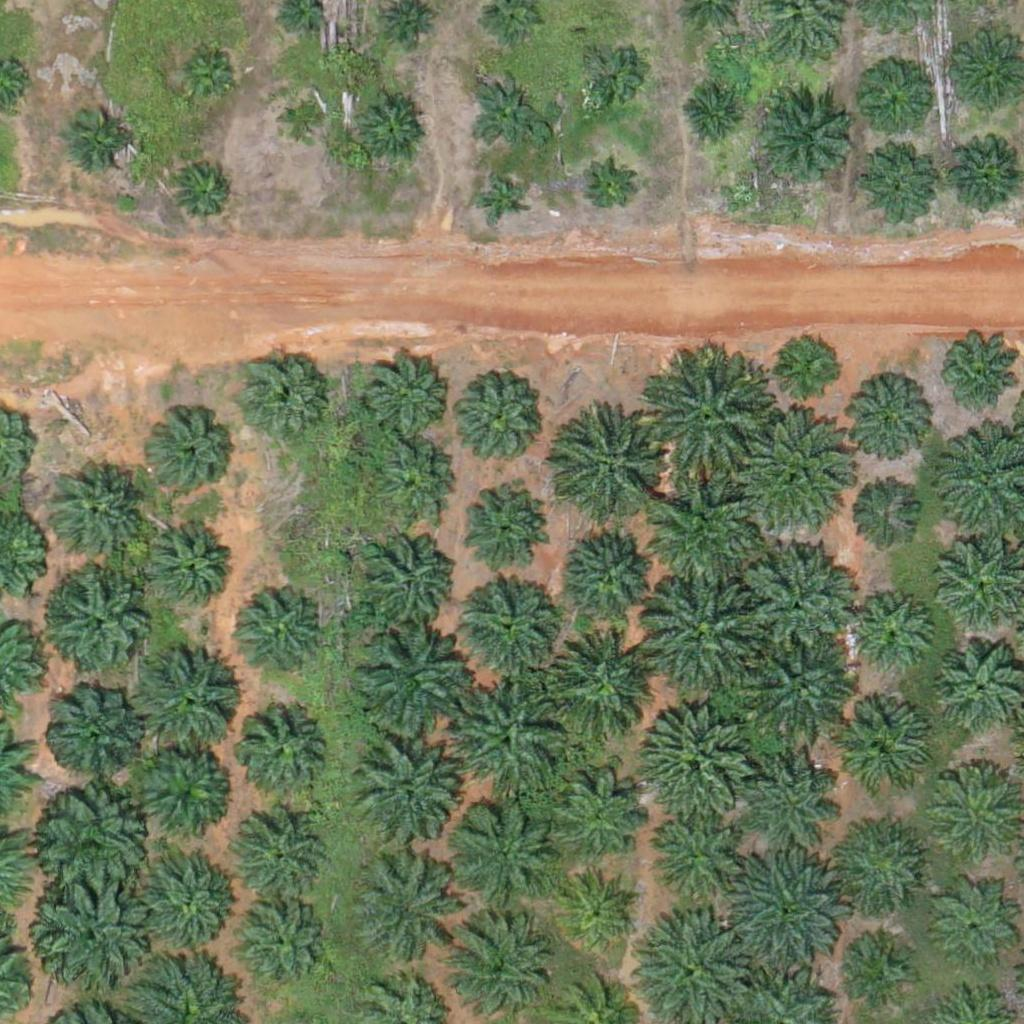Kelapa_Sawit: (646, 361, 771, 487), (746, 416, 859, 530), (542, 629, 655, 743), (728, 851, 841, 964), (649, 479, 762, 592), (640, 580, 753, 693), (637, 700, 750, 813), (535, 760, 648, 873), (32, 881, 145, 994), (447, 794, 559, 908), (353, 626, 465, 740), (746, 631, 858, 744), (741, 544, 853, 657), (452, 685, 564, 798), (128, 642, 240, 755), (45, 570, 157, 683), (38, 789, 150, 902), (744, 738, 844, 839), (564, 522, 664, 623), (448, 366, 548, 467), (348, 858, 448, 959), (224, 586, 324, 687), (229, 807, 329, 908), (230, 896, 330, 997), (139, 848, 239, 949), (131, 740, 231, 841), (47, 462, 147, 563), (753, 89, 853, 190), (833, 700, 933, 800), (559, 420, 659, 520), (461, 576, 561, 676), (352, 745, 452, 845), (357, 529, 457, 629), (233, 701, 333, 801), (43, 682, 143, 782), (843, 378, 931, 467), (554, 868, 642, 956), (934, 536, 1022, 624), (844, 590, 932, 678), (643, 814, 731, 902), (455, 482, 543, 570), (237, 351, 325, 439), (140, 522, 228, 610), (935, 332, 1022, 420), (936, 640, 1023, 728), (838, 821, 925, 909), (375, 437, 462, 525), (363, 354, 450, 442), (150, 411, 237, 499), (64, 101, 139, 177), (845, 483, 920, 559), (940, 892, 1015, 968), (861, 147, 936, 223), (353, 91, 428, 166), (469, 73, 544, 148), (858, 70, 921, 133), (174, 161, 237, 224), (682, 88, 745, 151), (779, 335, 842, 398), (577, 43, 640, 106), (847, 940, 910, 1003), (174, 43, 237, 106), (583, 165, 633, 216), (476, 174, 526, 225), (278, 96, 328, 146)
